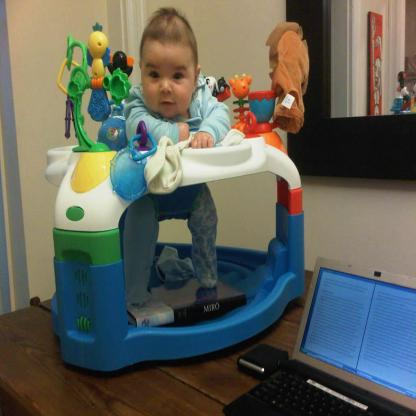board: (222, 253, 414, 414)
